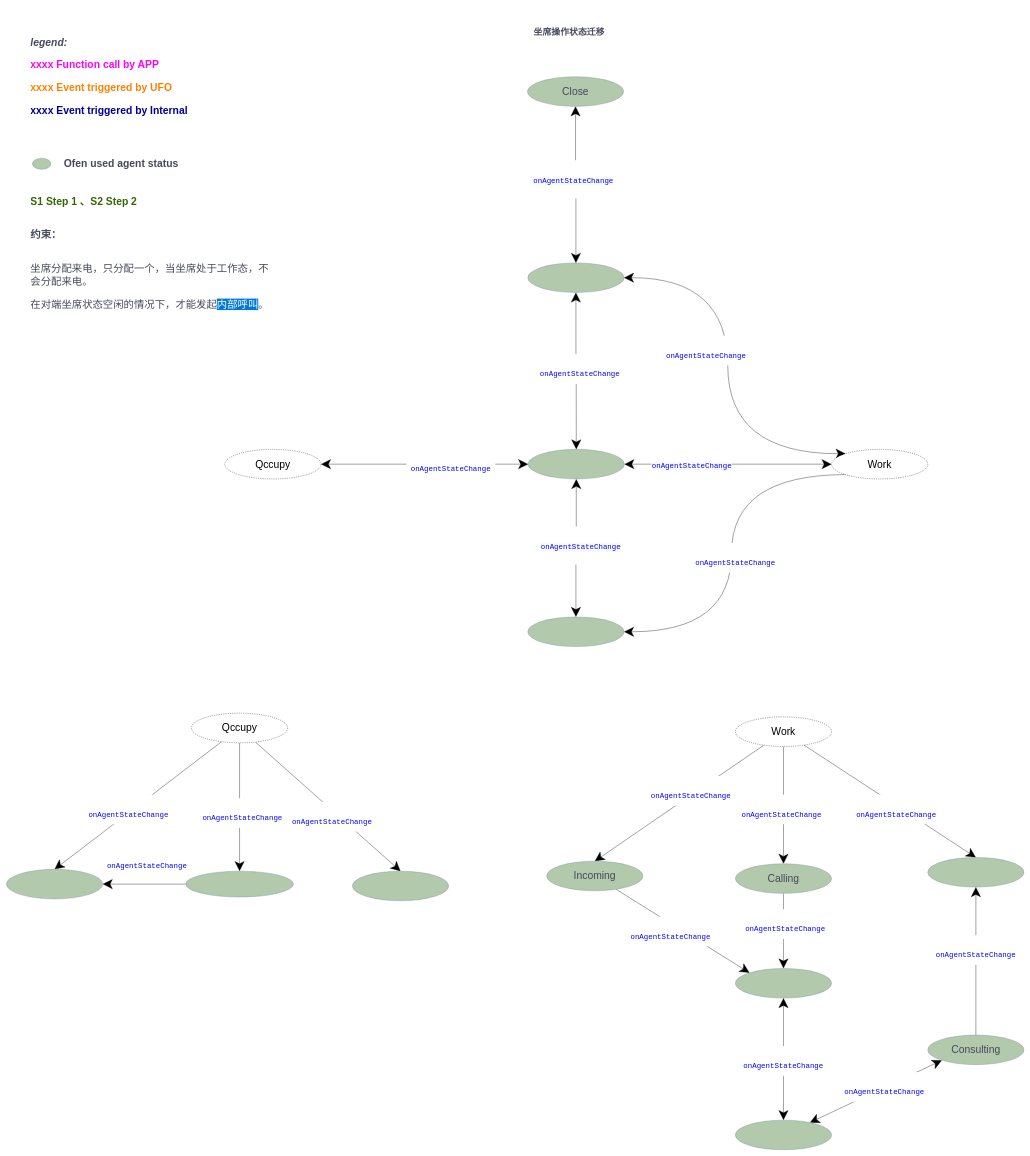
This 1030x1156 diagram has some shape labels left out. Each missing label, with the centre of its shape:
Barging: (54,884)
Busy: (575,277)
Holding: (783,1135)
Idle: (576,464)
Monitoring: (239,884)
MultiTalking: (975,872)
Rest: (575,632)
Talking: (783,983)
Whispering: (400,886)
